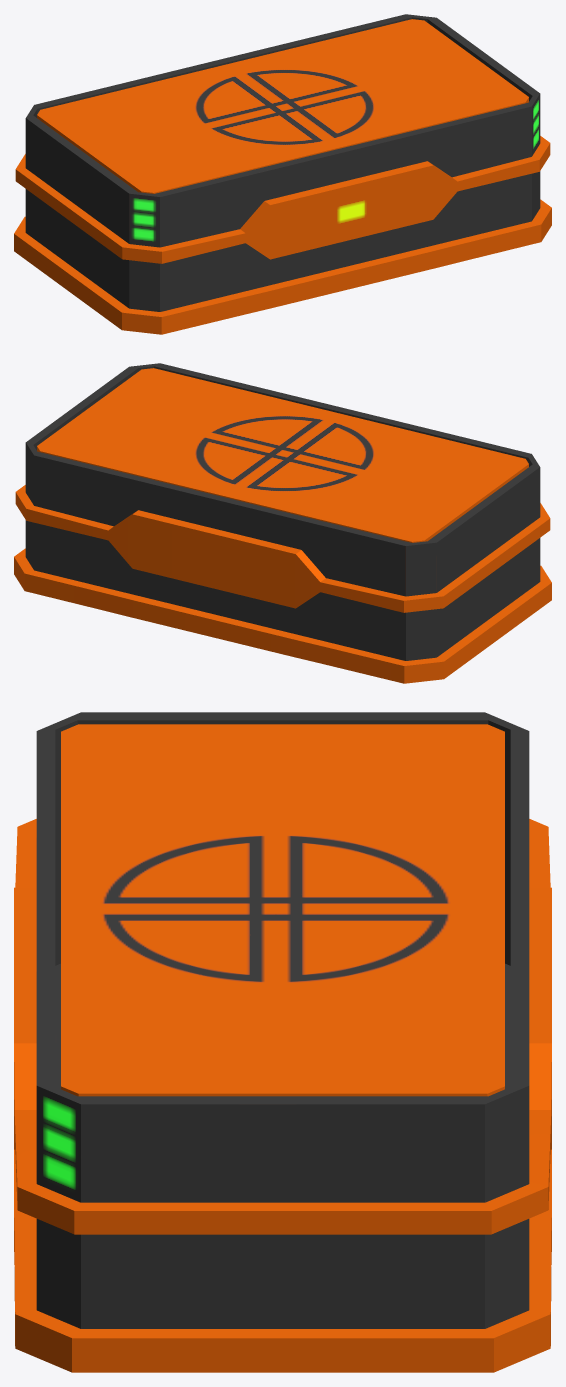
File: WeaponCrate.fbx
3 renders of one model, top to bottom at view 1: azimuth 30°, elevation 25°; view 2: azimuth 150°, elevation 25°; view 3: azimuth 270°, elevation 25°, orthographic. The views are drawn at different scales.
Parts seen in each view (by area): view 1: Base_Low, Lid_Low; view 2: Base_Low, Lid_Low; view 3: Base_Low, Lid_Low.
Boxes of the visible parts, x1,y1,x2,y2 form: Base_Low: (14, 14, 551, 334); Lid_Low: (37, 19, 528, 193); Base_Low: (14, 363, 551, 683); Lid_Low: (37, 368, 528, 542); Base_Low: (14, 712, 551, 1372); Lid_Low: (61, 724, 504, 1096).
Size of the model in its own units: 2.08 by 0.6136 by 1.15.
Materials: 1 (1 with a texture image).
